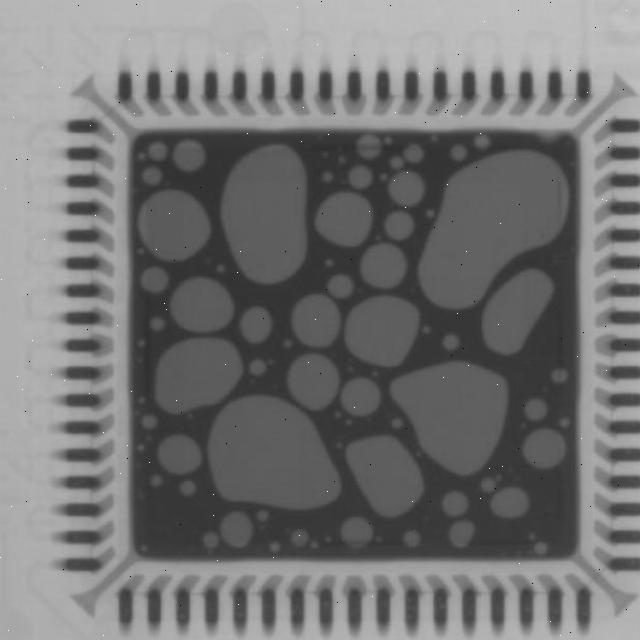Chip: (0, 0, 640, 640), (9, 22, 640, 640), (589, 0, 640, 93), (592, 600, 640, 640)
void: (420, 152, 565, 306), (207, 395, 338, 509), (392, 362, 508, 475), (221, 145, 306, 284), (155, 338, 242, 413), (347, 435, 424, 517), (481, 271, 552, 352), (344, 295, 419, 367), (138, 190, 210, 261), (169, 278, 234, 333), (316, 191, 372, 247), (288, 353, 338, 410), (292, 295, 340, 347), (363, 244, 406, 289), (159, 435, 201, 474), (524, 430, 565, 467), (342, 379, 380, 415), (388, 170, 424, 207), (490, 488, 528, 519), (240, 307, 271, 343), (221, 512, 252, 547), (173, 140, 204, 172), (342, 518, 372, 548), (385, 211, 413, 239), (141, 267, 167, 294), (442, 492, 467, 516), (328, 275, 353, 299), (452, 521, 474, 547), (525, 398, 547, 420), (359, 137, 381, 158), (350, 167, 370, 188), (142, 166, 161, 185), (148, 142, 166, 161), (406, 145, 422, 162), (451, 144, 466, 160), (405, 530, 420, 546), (474, 135, 489, 150), (250, 360, 266, 374), (481, 477, 495, 493), (292, 529, 306, 545), (540, 131, 558, 143), (204, 533, 219, 547), (181, 480, 196, 494), (389, 156, 403, 170), (552, 369, 566, 383), (143, 414, 157, 427), (445, 336, 458, 349), (534, 542, 547, 554), (152, 319, 164, 330), (152, 475, 162, 486), (345, 416, 355, 427), (258, 511, 267, 521), (323, 172, 333, 181), (380, 173, 389, 182), (392, 419, 401, 428), (216, 264, 225, 273), (137, 442, 144, 453), (283, 339, 292, 347), (430, 134, 438, 142), (326, 258, 333, 267), (271, 543, 279, 550), (385, 136, 392, 144), (338, 156, 345, 163), (138, 339, 144, 347), (335, 410, 341, 418), (337, 441, 344, 447), (427, 209, 432, 216), (424, 326, 429, 333)
